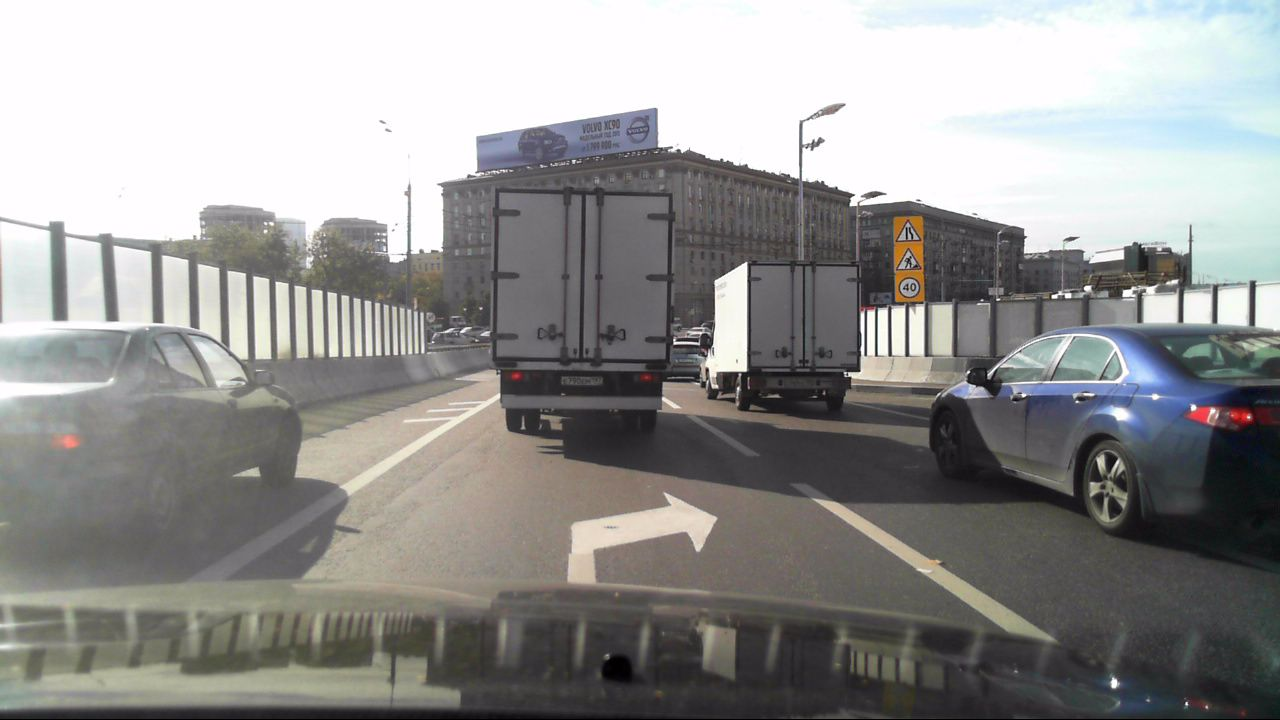speed_warning_40: (894, 272, 922, 303)
